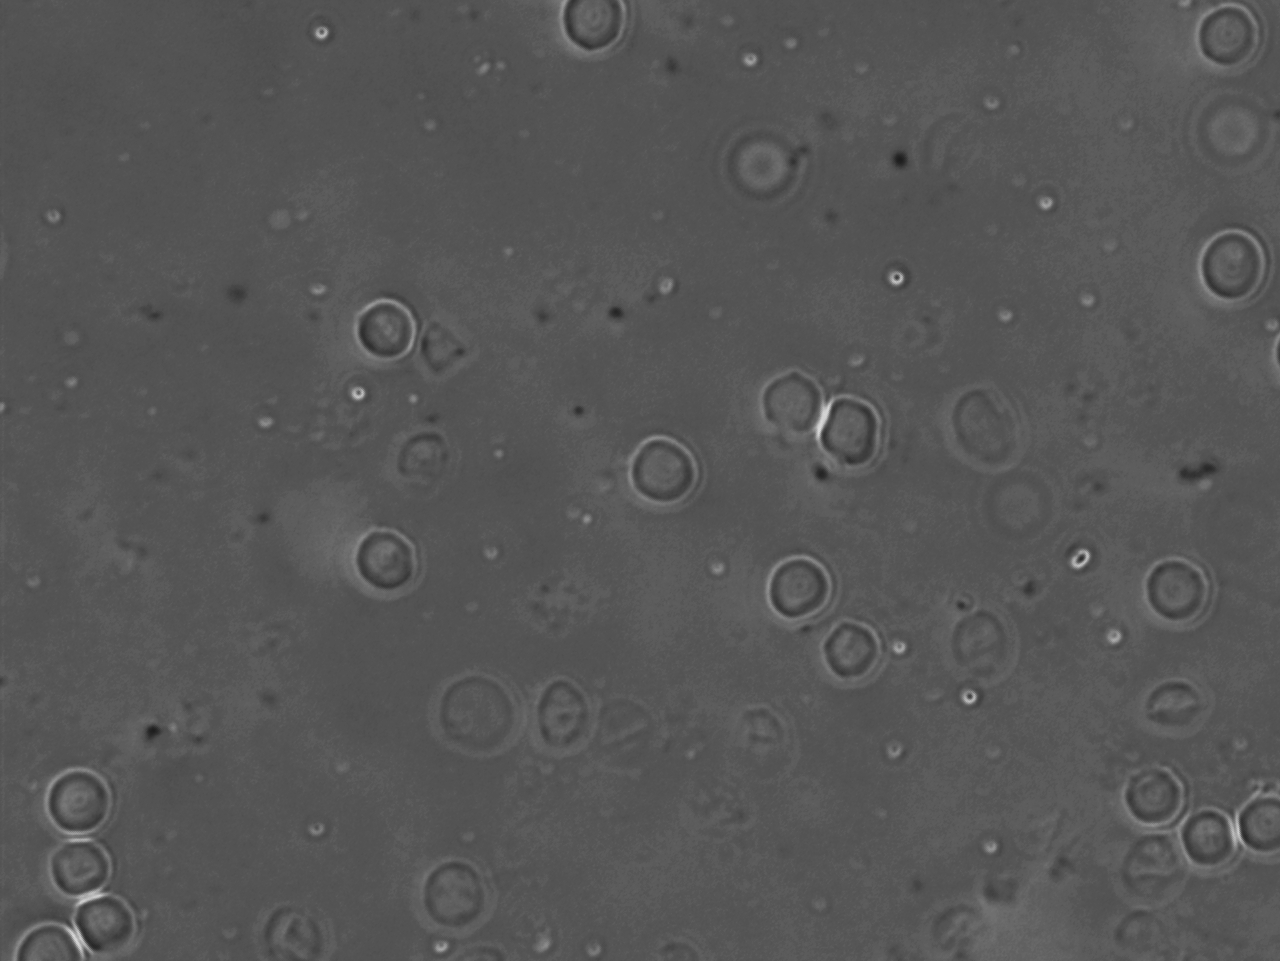depth:0: (1130, 540, 1220, 629), (618, 426, 712, 512), (348, 521, 447, 601), (1189, 218, 1273, 312), (752, 541, 845, 622), (1185, 0, 1272, 86), (37, 761, 127, 841), (343, 287, 426, 368), (67, 872, 151, 952), (33, 825, 121, 891), (9, 910, 95, 961)
